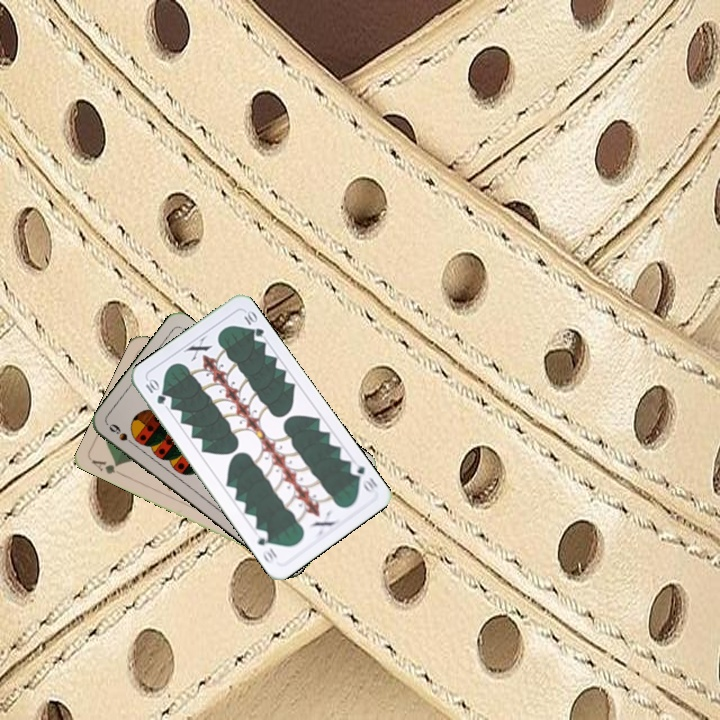G10: (345, 458, 380, 496), (141, 375, 168, 407)
GA: (88, 456, 126, 479)
S9: (105, 420, 139, 449)
